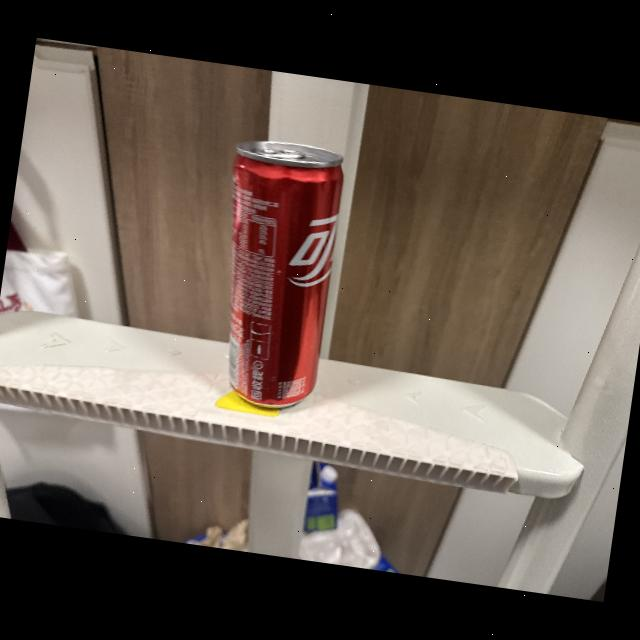Cola: (195, 128, 361, 421)
